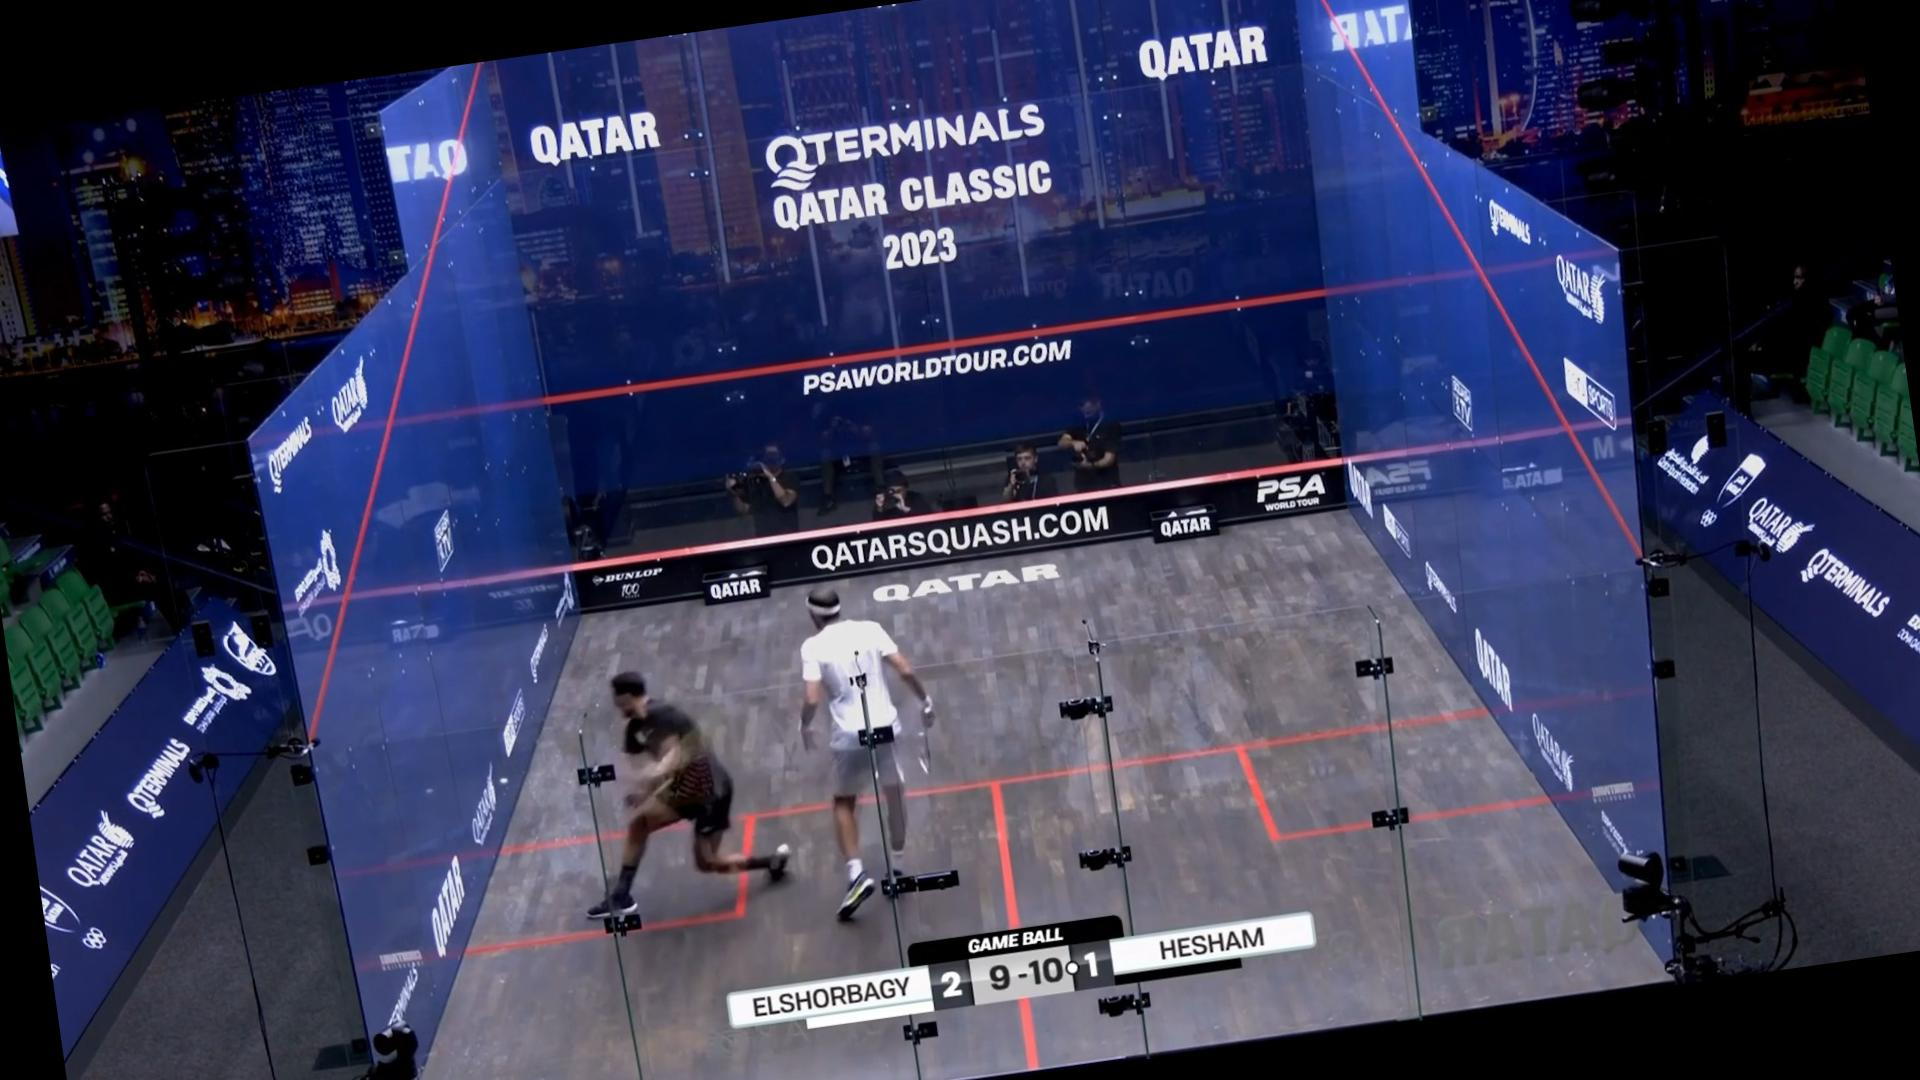Squash-Ball: (493, 766, 514, 791)
